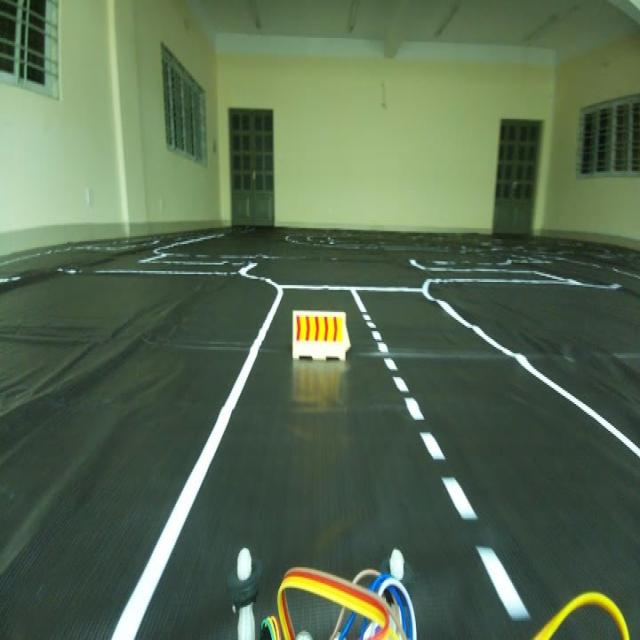roadblock: (288, 300, 359, 381)
